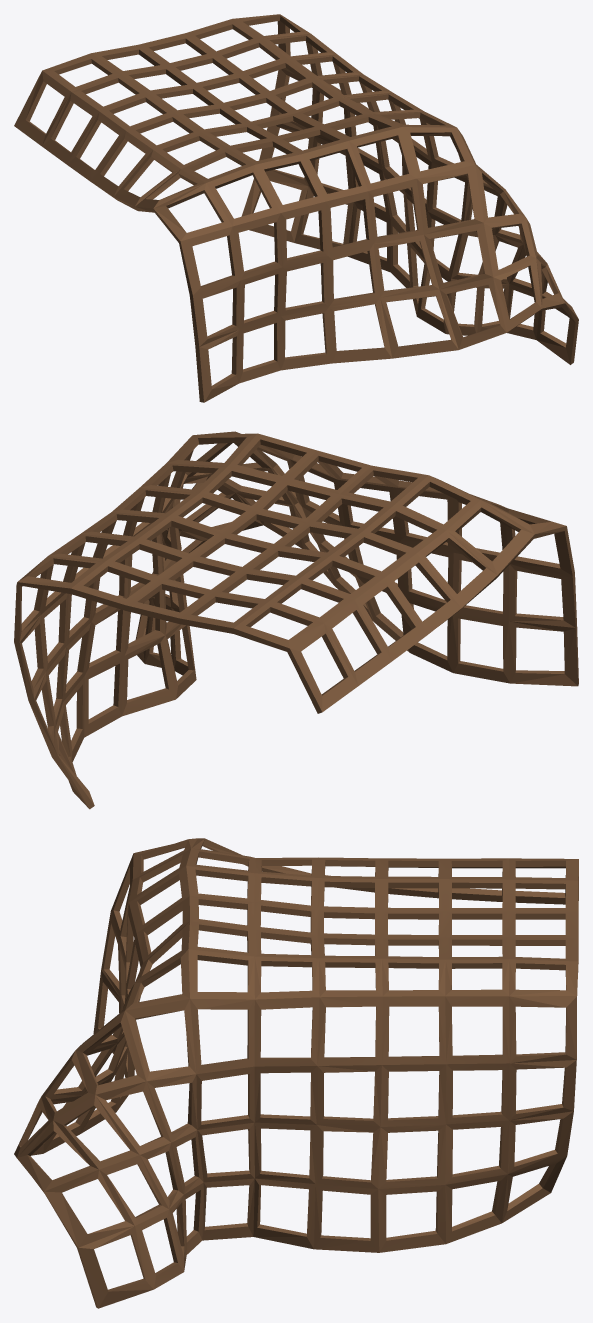
Rendered from Malla.glb.
3 renders of one model, top to bottom at view 1: azimuth 30°, elevation 25°; view 2: azimuth 150°, elevation 25°; view 3: azimuth 270°, elevation 25°, orthographic. The views are drawn at different scales.
Parts seen in each view (by area): view 1: SM_Prop_Net_02; view 2: SM_Prop_Net_02; view 3: SM_Prop_Net_02.
Boxes of the visible parts, <box> form: SM_Prop_Net_02: <box>14,14,578,402</box>; SM_Prop_Net_02: <box>14,431,578,809</box>; SM_Prop_Net_02: <box>14,838,578,1308</box>.
Bounding box in the file's own units: 1.87 × 1.14 × 2.05.
1 material, 1 textured.
